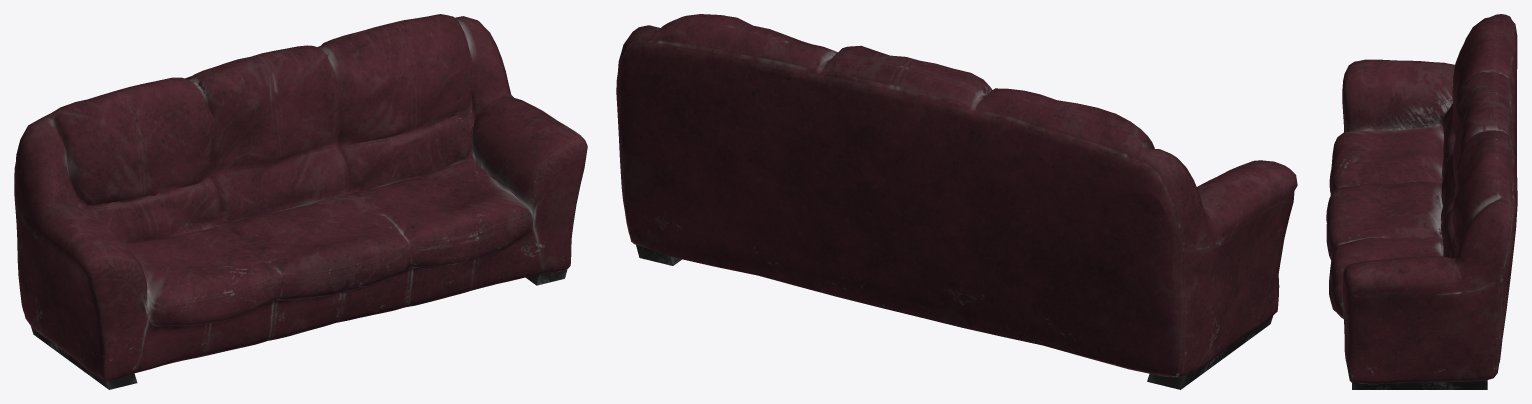
The model's file is MODERN-LEATHER-SOFA-99999.glb.
The picture shows the model from 3 angles, left to right: view 1: azimuth 30°, elevation 25°; view 2: azimuth 150°, elevation 25°; view 3: azimuth 270°, elevation 25°; orthographic projection. The views are drawn at different scales.
Parts seen in each view (by area): view 1: Sofa_low, Patas_low; view 2: Sofa_low, Patas_low; view 3: Sofa_low, Patas_low.
Part boxes in pixels (x1=…): Sofa_low: x1=14, y1=14, x2=587, y2=381; Patas_low: x1=31, y1=269, x2=567, y2=389; Sofa_low: x1=616, y1=14, x2=1297, y2=377; Patas_low: x1=636, y1=244, x2=1272, y2=389; Sofa_low: x1=1326, y1=14, x2=1517, y2=384; Patas_low: x1=1352, y1=380, x2=1487, y2=389.
Bounding box in the file's own units: 5.87 × 2.47 × 2.16.
Materials: 1 (1 with a texture image).
